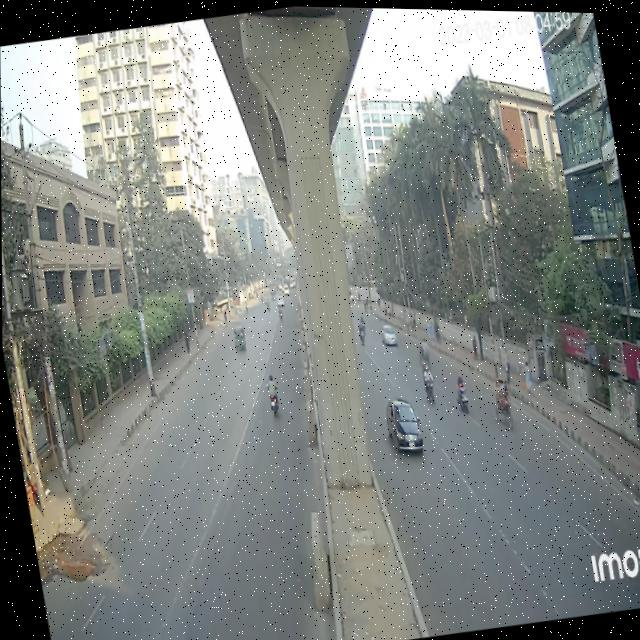cng: (228, 319, 249, 353)
rikshaw: (488, 367, 518, 434)
